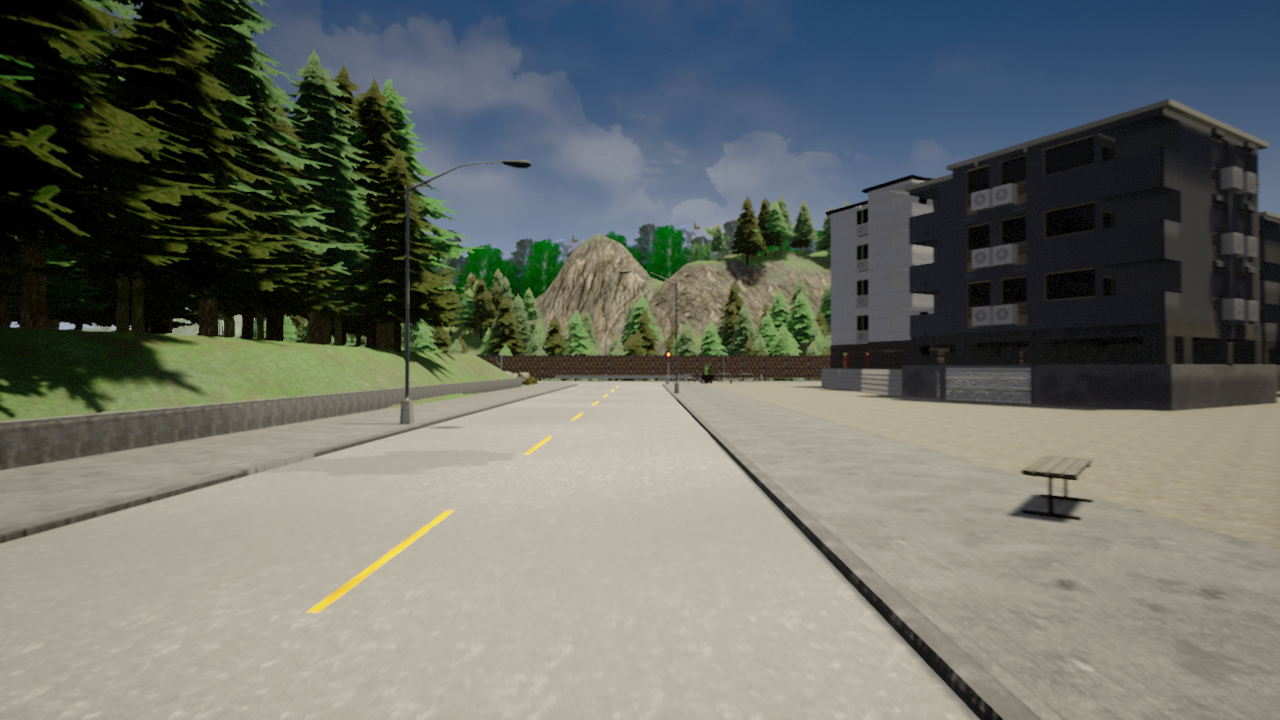red: (666, 351, 672, 363)
